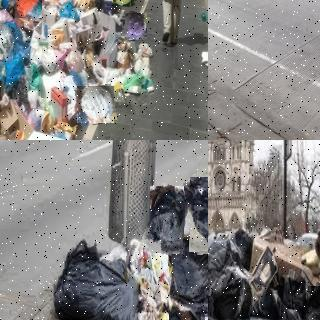Garbage: (50, 238, 140, 320), (168, 236, 208, 320), (145, 184, 189, 255), (208, 269, 254, 320), (186, 175, 208, 253), (76, 85, 116, 125), (123, 12, 149, 41), (304, 284, 320, 320), (0, 22, 14, 62), (12, 0, 42, 18), (113, 0, 131, 6)
